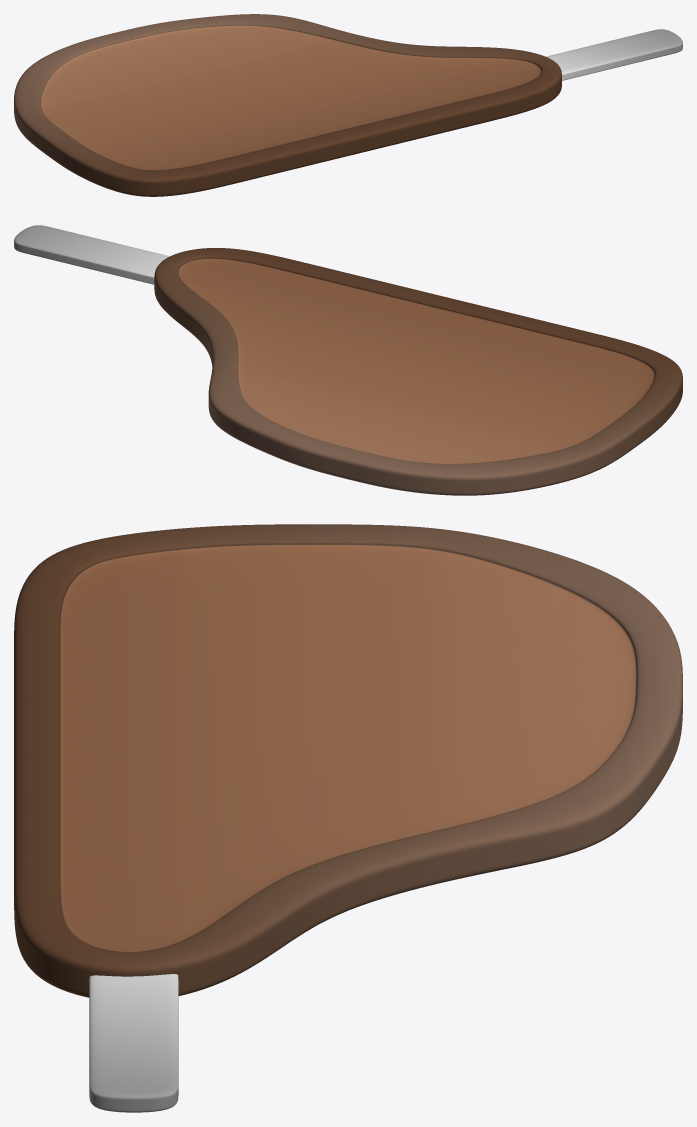
The model's file is HH_CookedPork.fbx.
3 views of the same model, one above another, from view 1: azimuth 30°, elevation 25°; view 2: azimuth 150°, elevation 25°; view 3: azimuth 270°, elevation 25° (orthographic). The views are drawn at different scales.
Parts seen in each view (by area): view 1: Top.001, Bottom.001; view 2: Top.001, Bottom.001; view 3: Top.001, Bottom.001.
Boxes of the visible parts, <box> form: Top.001: <box>14,14,682,188</box>; Bottom.001: <box>14,46,682,196</box>; Top.001: <box>14,225,682,486</box>; Bottom.001: <box>14,245,682,495</box>; Top.001: <box>14,524,682,1105</box>; Bottom.001: <box>14,704,682,1112</box>.
Size of the model in its own units: 60 by 1.96 by 30.
Materials: 1 (1 with a texture image).
